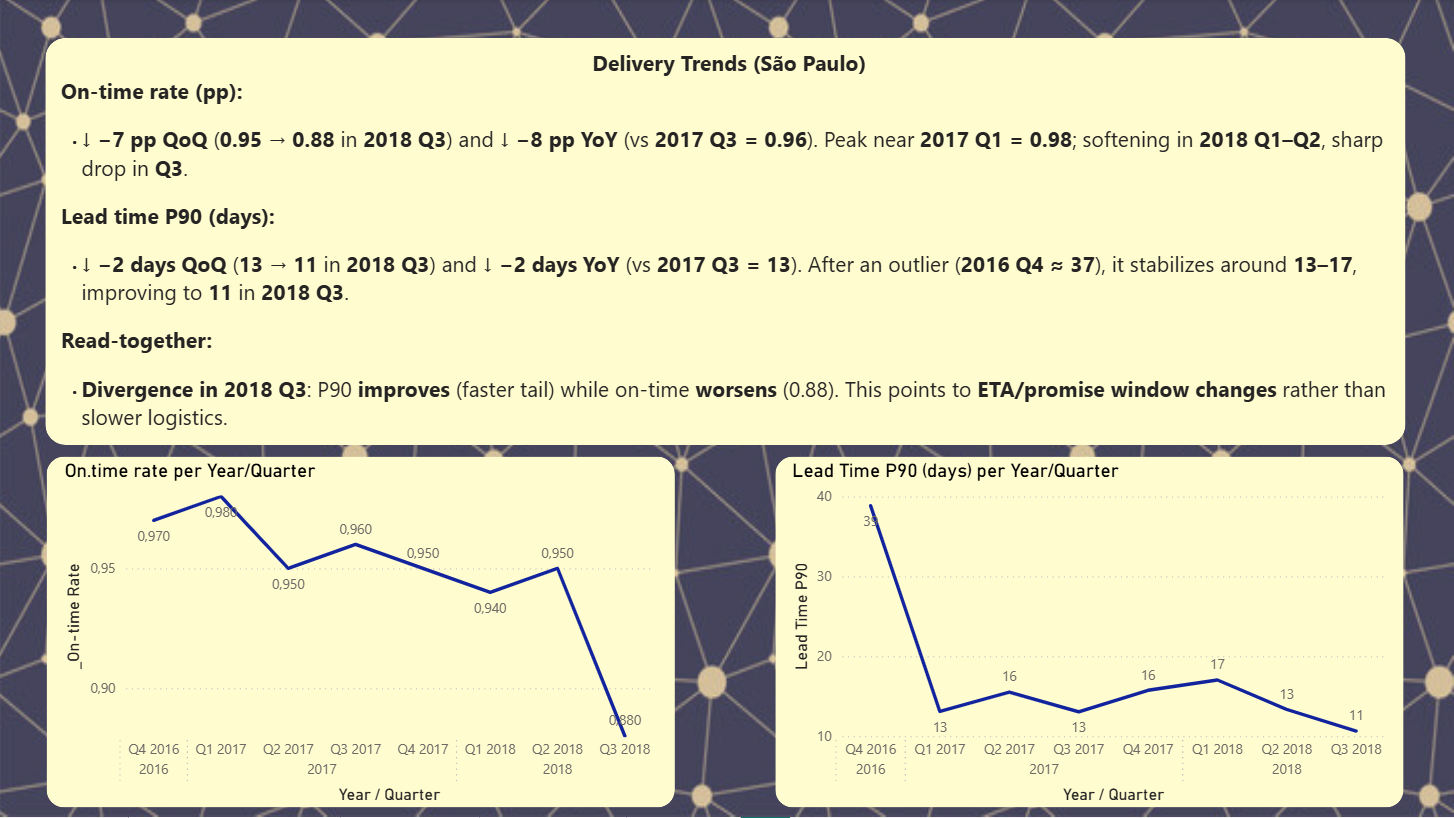

Layout of this report page (visuals, bound fields, positions):
{"tool":"powerbi","page":{"name":"Delivery / SLA","canvas":[1280,720],"ordinal":2},"visuals":[{"type":"shape","box":[40.1,34,1196.6,358.2],"z":0},{"type":"shape","box":[41.7,403,552.8,308.8],"z":500},{"type":"shape","box":[682.5,403,552.8,308.8],"z":750},{"type":"lineChart","title":"On.time rate per Year/Quarter","fields":{"Category":["Date.Year","Date.QuarterLabel"],"Y":["analytics vw_kpi_quarter_sp._On-time Rate"]},"box":[52.5,404.5,529.6,308.8],"z":1000},{"type":"lineChart","title":"Lead Time P90 (days) per Year/Quarter","fields":{"Y":["analytics vw_kpi_quarter_sp._Lead Time P90"],"Category":["Date.Year","Date.QuarterLabel"]},"box":[693.3,404.5,532.7,308.8],"z":2000},{"type":"textbox","box":[49.4,38.6,1185.8,358.2],"z":3000}]}

Visuals, with their boxes in screenshot pixels (x1, y1, x2, y2), scaled from the page's 1280x720 canvas onto the 1454x818 screenshot:
shape: bbox=[46, 39, 1405, 446]
shape: bbox=[47, 458, 675, 809]
shape: bbox=[775, 458, 1403, 809]
"On.time rate per Year/Quarter" lineChart: bbox=[60, 460, 661, 810]
"Lead Time P90 (days) per Year/Quarter" lineChart: bbox=[788, 460, 1393, 810]
textbox: bbox=[56, 44, 1403, 451]
